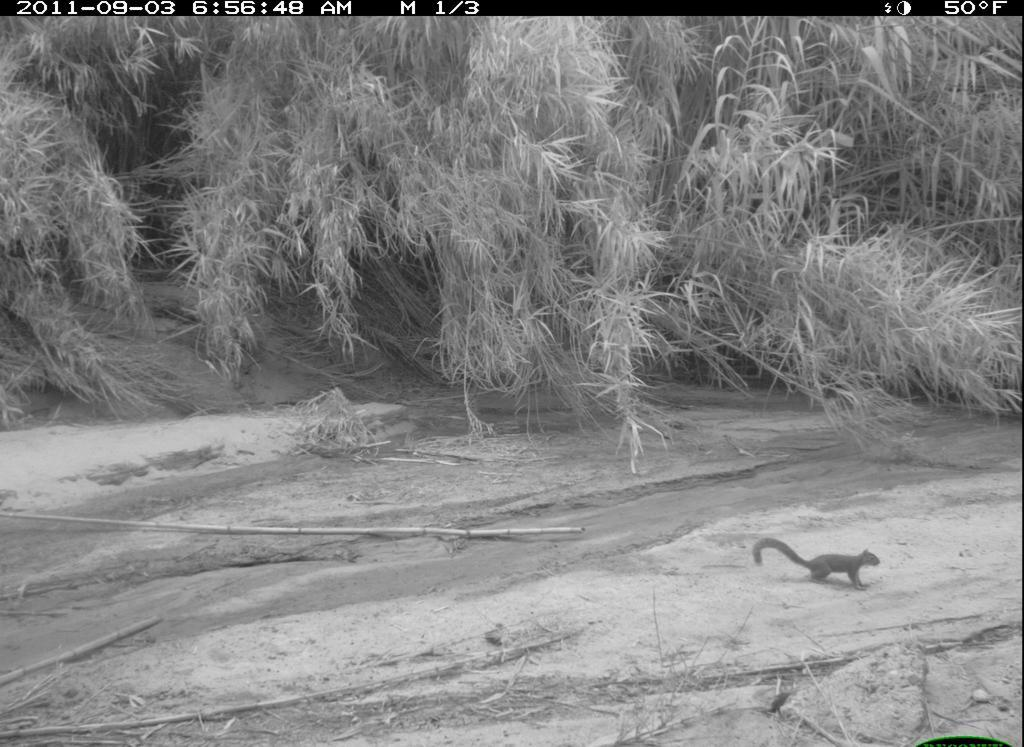squirrel: (745, 529, 891, 593)
